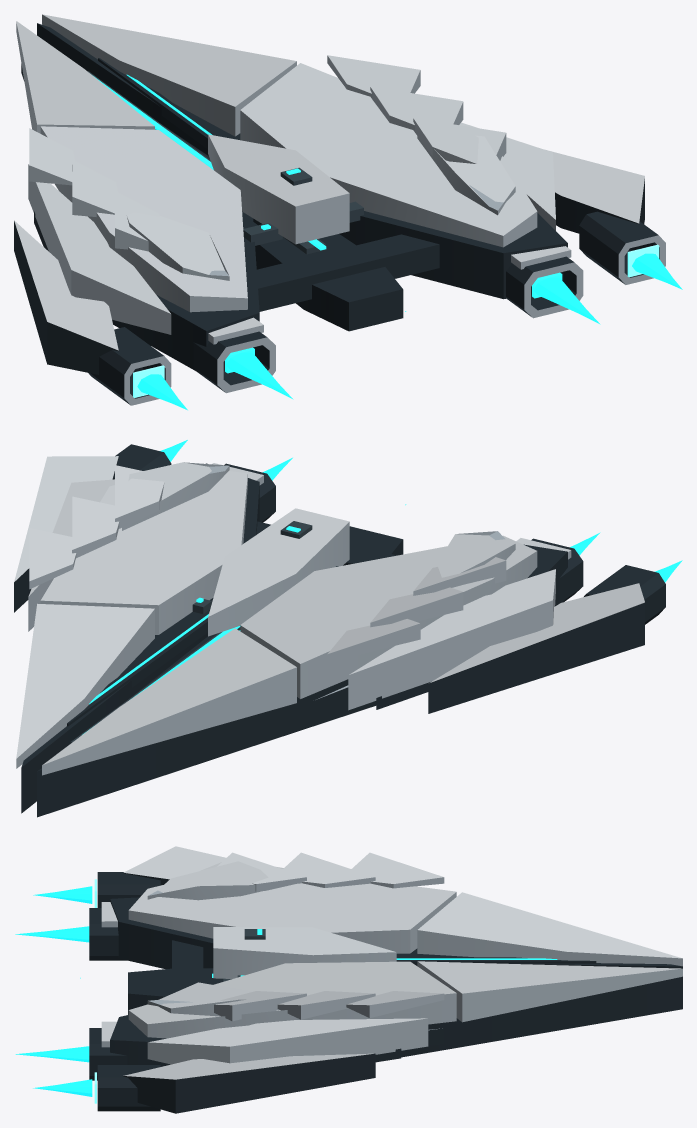
Rendered from 06_titan.glb.
3 renders of one model, top to bottom at view 1: azimuth 30°, elevation 25°; view 2: azimuth 150°, elevation 25°; view 3: azimuth 270°, elevation 25°, orthographic. The views are drawn at different scales.
Parts seen in each view (by area): view 1: Hull, energy_2, energy_1; view 2: Hull; view 3: Hull, energy_1, energy_2.
Part boxes in pixels (x1=…): Hull: x1=14, y1=14, x2=682, y2=410; energy_2: x1=532, y1=272, x2=600, y2=324; energy_1: x1=225, y1=347, x2=293, y2=399; Hull: x1=14, y1=440, x2=682, y2=817; Hull: x1=33, y1=846, x2=682, y2=1113; energy_1: x1=15, y1=926, x2=89, y2=942; energy_2: x1=15, y1=1046, x2=89, y2=1062.
Bounding box in the file's own units: 26.84 × 4.5 × 32.51.
